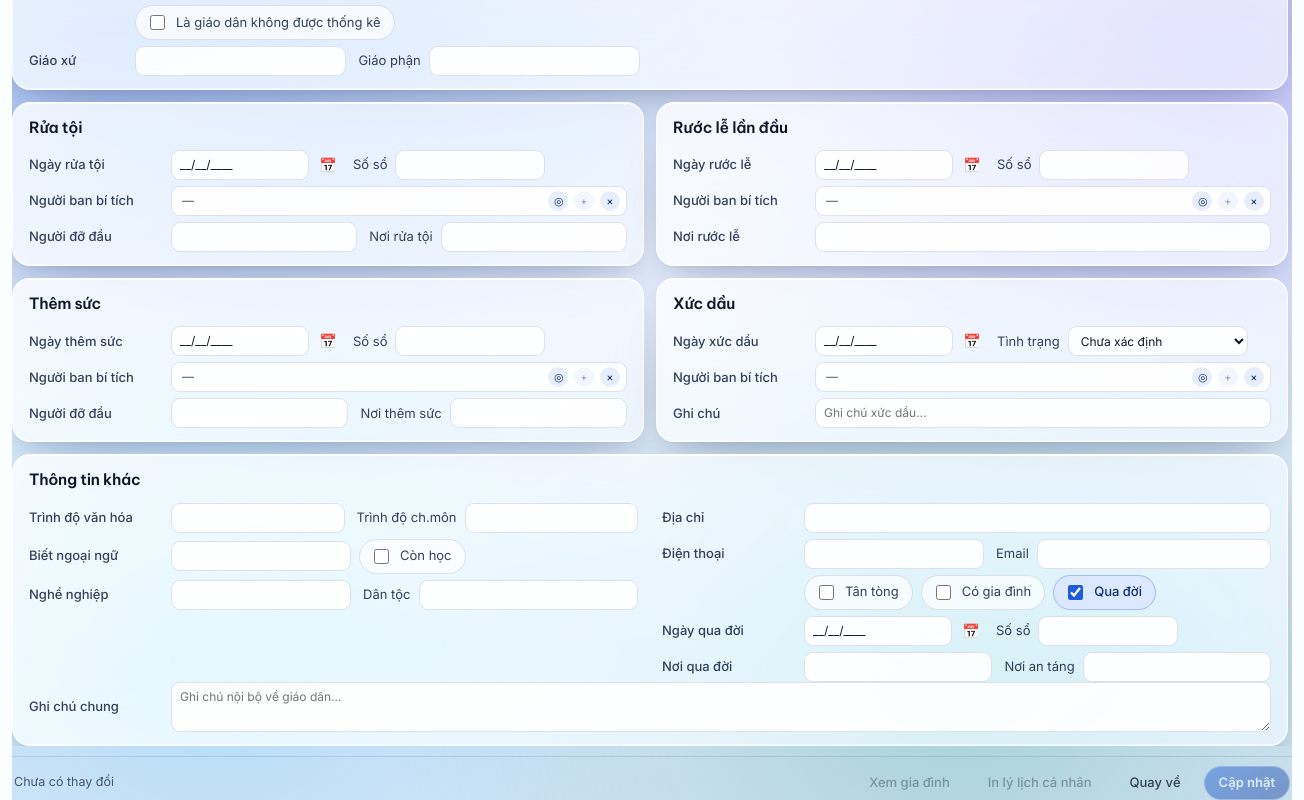
Scenario: GiaoDanDetail › tick Con hoc thi tu bo tick Qua doi
The width and height of the screenshot is (1304, 800).
(page scrolled)
Check: the checkbox labelled "Qua đời" is checked, box [1068,584,1083,600]
Click the checkbox labelled "Còn học" at (382, 556), box [374,548,389,564]
(page scrolled)
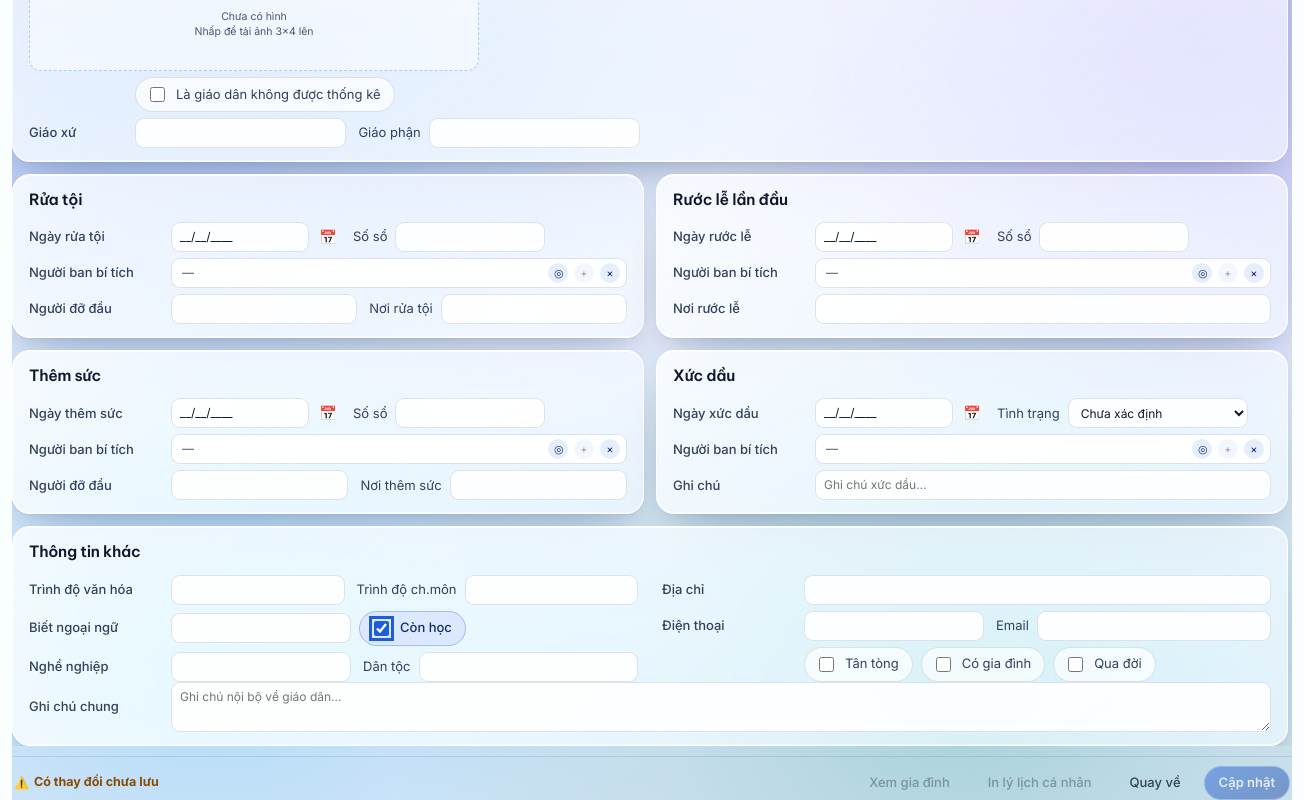
Check: the checkbox labelled "Qua đời" is not checked, box [1068,656,1083,672]
